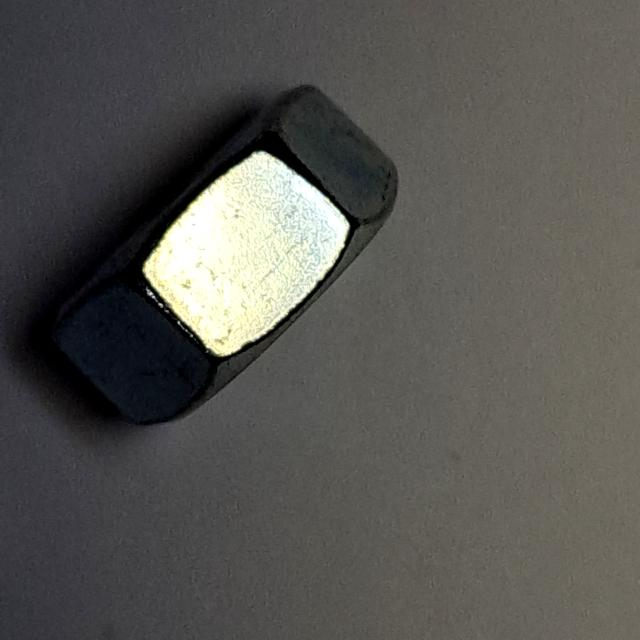Side_Excellent: (32, 72, 415, 444)
